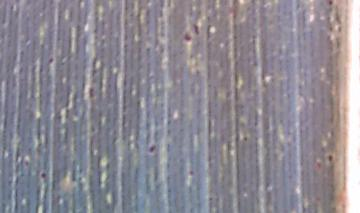tarspot: (182, 32, 194, 44), (146, 143, 158, 154), (38, 171, 51, 181), (326, 152, 335, 165), (88, 86, 96, 100), (187, 167, 196, 178), (192, 23, 201, 34), (47, 56, 55, 66), (206, 196, 217, 203), (242, 134, 247, 145), (325, 1, 336, 6), (23, 159, 30, 166)
